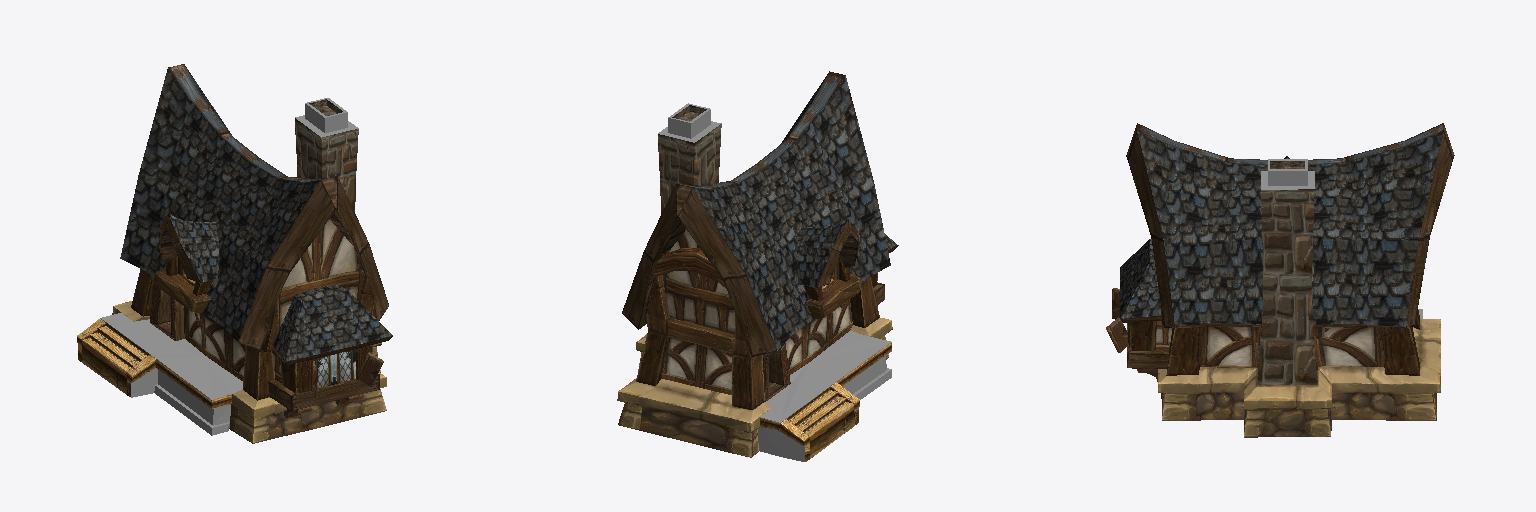
The picture shows the model from 3 angles: view 1: azimuth 30°, elevation 25°; view 2: azimuth 150°, elevation 25°; view 3: azimuth 270°, elevation 25°; orthographic projection.
Visible parts, largest first — view 1: houseexterior; view 2: houseexterior; view 3: houseexterior.
Part boxes in pixels (bbox=[...]): houseexterior: bbox=[77, 64, 392, 443]; houseexterior: bbox=[617, 71, 898, 461]; houseexterior: bbox=[1106, 123, 1454, 437].
Bounding box in the file's own units: 23.55 × 27.17 × 33.05.
Materials: 21 (19 with a texture image).